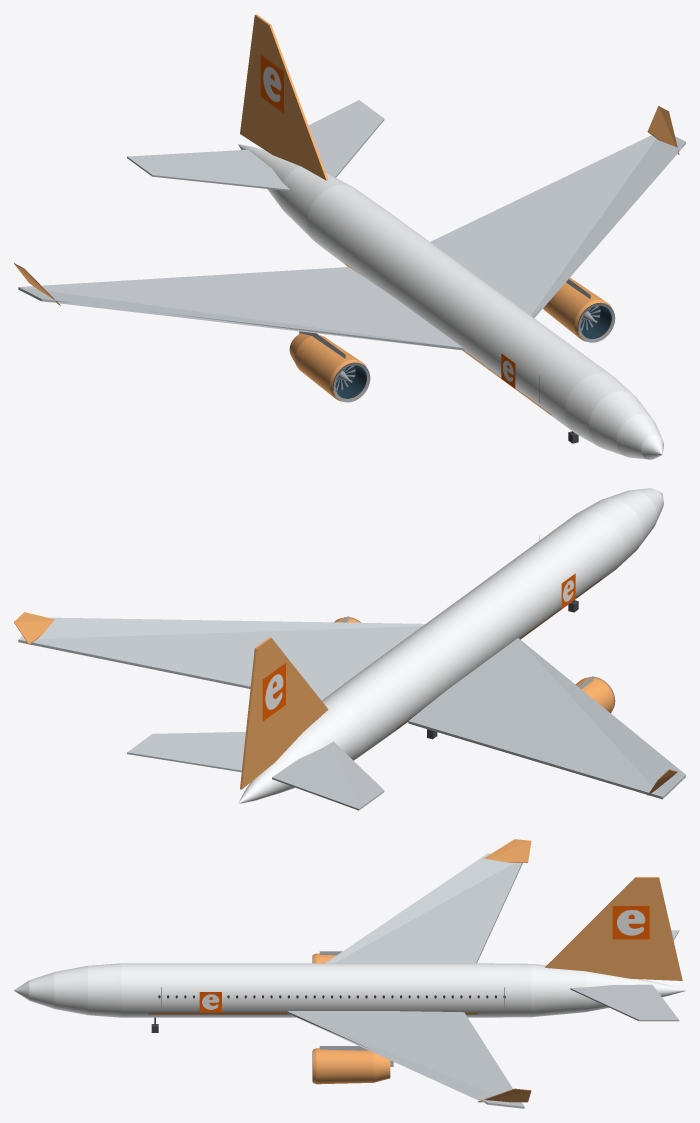
Rendered from a35k-EZY-v3.gltf.
3 renders of one model, top to bottom at view 1: azimuth 30°, elevation 25°; view 2: azimuth 150°, elevation 25°; view 3: azimuth 270°, elevation 25°, orthographic. The views are drawn at different scales.
Visible parts, largest first — view 1: object 1; view 2: object 1; view 3: object 1.
Part boxes in pixels (x1,y1,x2,y2): object 1: [14, 14, 685, 459]; object 1: [14, 488, 685, 810]; object 1: [14, 839, 685, 1108].
Bounding box in the file's own units: 65 × 19.16 × 74.
8 materials, 1 textured.
